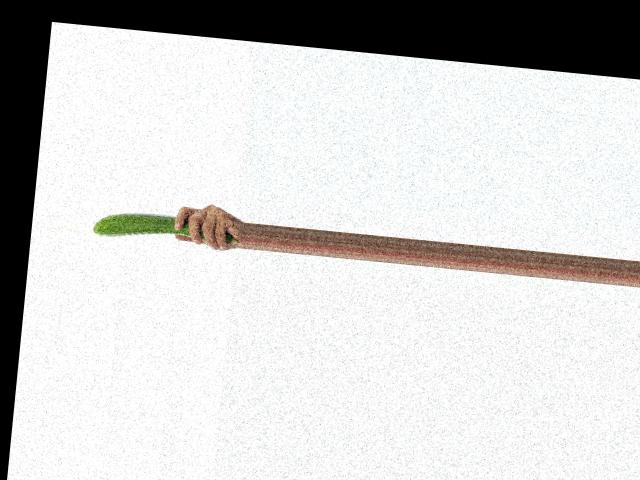cucumber: (91, 208, 239, 249)
